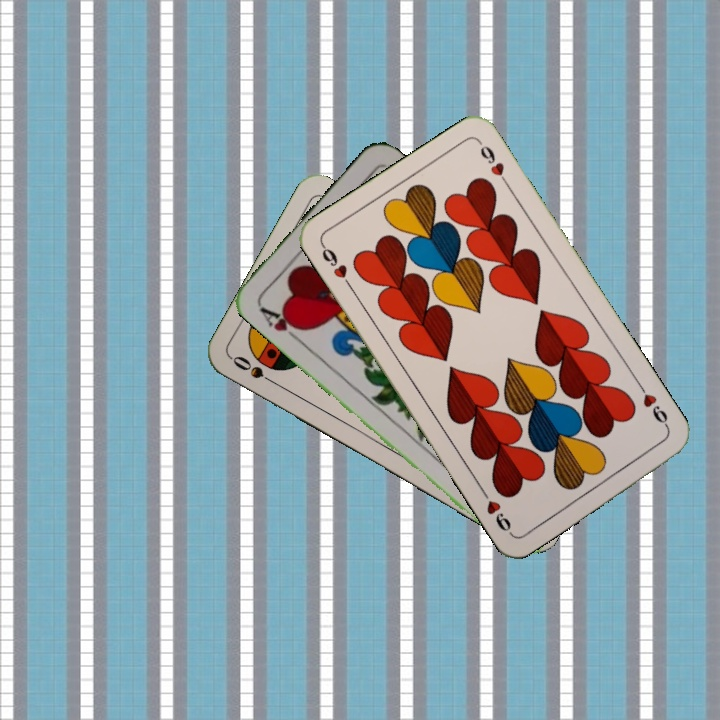H9: (317, 240, 356, 292), (634, 380, 672, 432)
HA: (256, 302, 308, 345)
SO: (228, 351, 282, 389)
